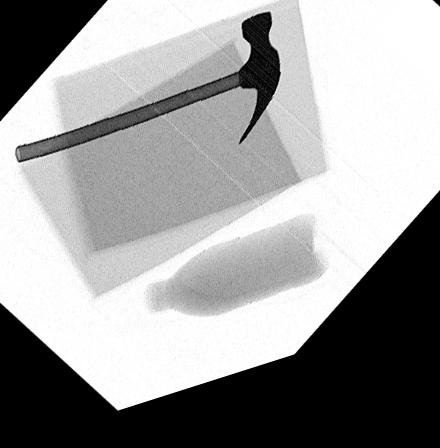Hammer: (13, 25, 282, 164)
